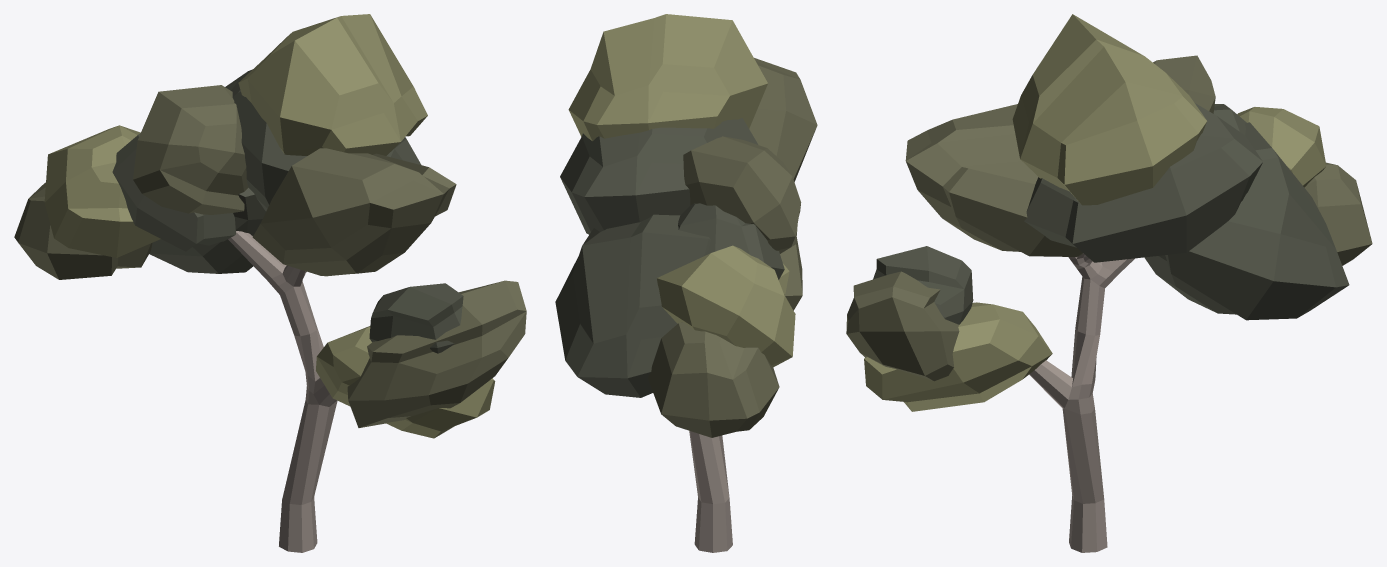
Rendered from BoardWalkTreeSolo1.fbx.
3 renders of one model, left to right at view 1: azimuth 30°, elevation 25°; view 2: azimuth 150°, elevation 25°; view 3: azimuth 270°, elevation 25°, orthographic. The views are drawn at different scales.
Visible parts, largest first — view 1: TreeVarient2; view 2: TreeVarient2; view 3: TreeVarient2.
Part boxes in pixels (bbox=[...]): TreeVarient2: bbox=[14, 14, 526, 552]; TreeVarient2: bbox=[555, 14, 817, 552]; TreeVarient2: bbox=[846, 14, 1372, 552].
Size of the model in its own units: 6.4 by 10.89 by 9.85.
